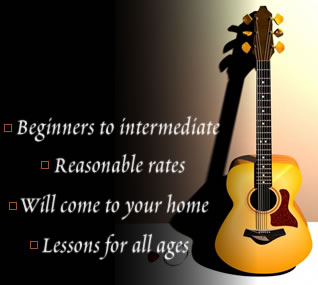guitar: (214, 4, 314, 275)
